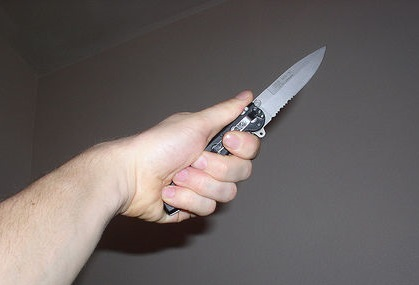knife: (176, 40, 332, 190)
